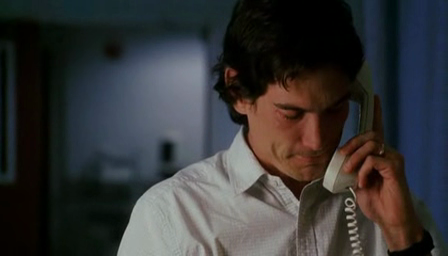cu: (1, 1, 448, 256)
face: (261, 78, 351, 182)
person: (115, 1, 448, 256)
